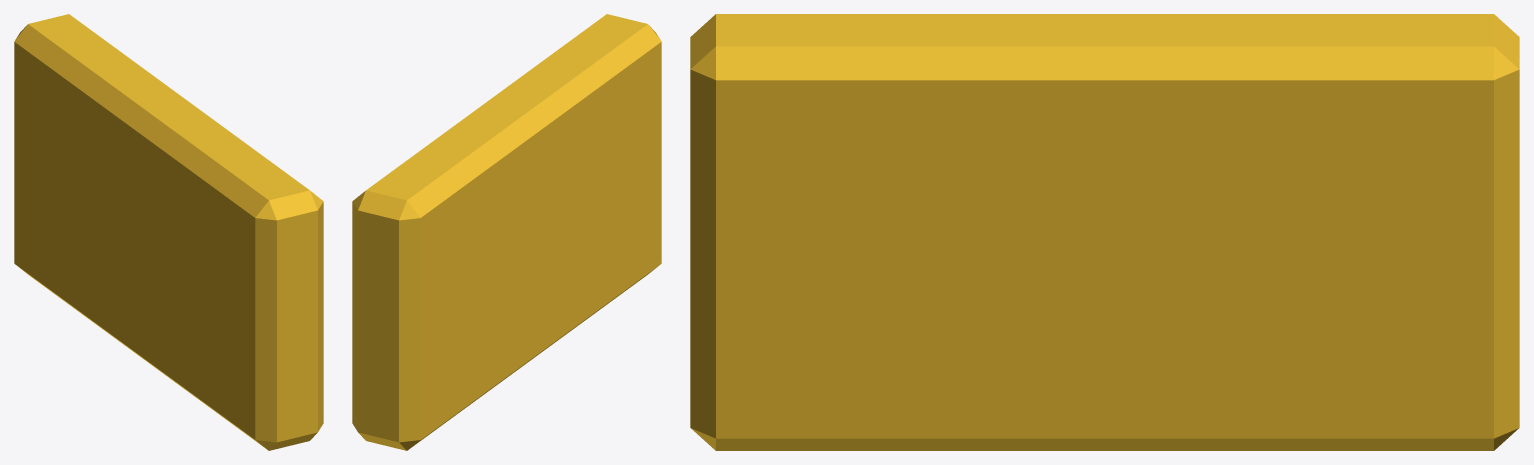
Rendered from dozer_wing.glb.
3 views of the same model, side by side, from view 1: azimuth 30°, elevation 25°; view 2: azimuth 150°, elevation 25°; view 3: azimuth 270°, elevation 25° (orthographic). The views are drawn at different scales.
Visible parts, largest first — view 1: dozer_wing; view 2: dozer_wing; view 3: dozer_wing.
Part boxes in pixels (x1,y1,x2,y2): dozer_wing: (14, 14, 323, 450); dozer_wing: (352, 14, 661, 450); dozer_wing: (690, 14, 1519, 450).
Bounding box in the file's own units: 0.04 × 0.14 × 0.26.
